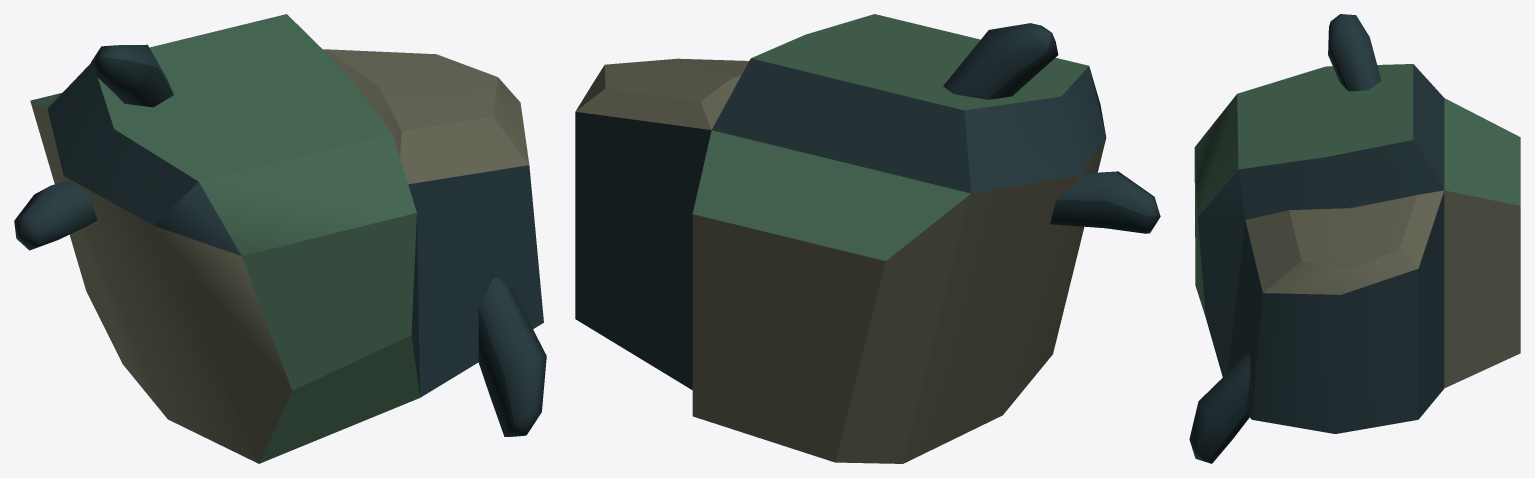
File: дек3.fbx
3 renders of one model, left to right at view 1: azimuth 30°, elevation 25°; view 2: azimuth 150°, elevation 25°; view 3: azimuth 270°, elevation 25°, orthographic. The views are drawn at different scales.
Visible parts, largest first — view 1: pCube2; view 2: pCube2; view 3: pCube2.
Part boxes in pixels (x1,y1,x2,y2): pCube2: (14,14,546,463); pCube2: (575,14,1160,463); pCube2: (1189,14,1520,463).
Size of the model in its own units: 2.17 by 1.65 by 1.52.
